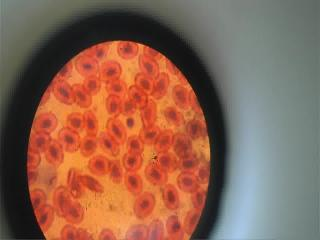cell: (32, 112, 62, 129), (72, 83, 94, 106), (138, 54, 162, 75), (98, 131, 118, 155), (115, 39, 139, 58), (48, 139, 64, 166), (56, 81, 76, 102), (79, 56, 101, 75), (61, 128, 80, 150), (28, 189, 50, 208), (100, 60, 126, 76), (55, 189, 71, 215), (109, 119, 128, 140), (68, 201, 86, 223), (134, 72, 154, 91), (175, 133, 195, 152), (89, 156, 110, 174), (146, 167, 168, 184), (156, 154, 178, 171), (186, 120, 208, 137), (178, 174, 200, 191), (84, 109, 100, 132), (168, 215, 184, 238), (36, 209, 55, 228), (130, 85, 150, 103), (82, 135, 99, 156), (125, 171, 142, 192), (127, 222, 148, 239), (142, 104, 158, 126), (163, 184, 180, 204), (155, 75, 171, 96), (150, 218, 166, 239), (30, 133, 52, 148), (136, 196, 154, 214), (104, 95, 120, 115), (85, 77, 106, 92), (174, 85, 188, 107), (108, 78, 126, 95), (125, 136, 145, 151), (122, 154, 142, 169), (167, 108, 184, 125), (122, 97, 138, 115), (140, 128, 160, 142), (110, 161, 124, 181), (68, 111, 83, 129), (158, 132, 172, 150), (181, 158, 202, 168)
